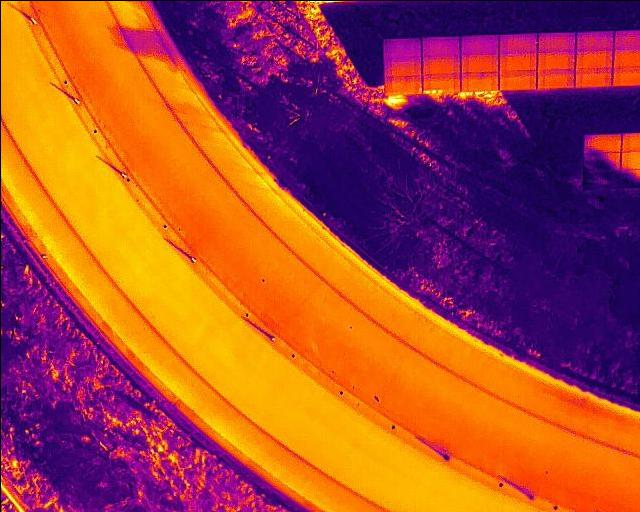Cell-Multi: (422, 74, 459, 92)
No-Anomaly: (383, 37, 422, 60), (458, 36, 498, 56), (422, 56, 458, 78), (499, 34, 536, 55), (537, 51, 574, 72), (460, 56, 498, 76), (420, 37, 458, 57), (574, 31, 613, 50), (537, 32, 575, 51), (385, 75, 421, 94), (383, 60, 421, 78), (497, 55, 537, 72), (575, 51, 612, 69), (498, 72, 536, 89), (575, 70, 612, 87), (536, 72, 573, 88), (461, 76, 498, 92)
Shadowing: (583, 151, 619, 171), (584, 135, 621, 152), (582, 172, 619, 189)
